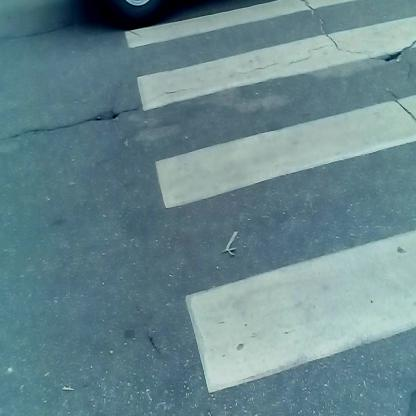crosswalk: (119, 23, 416, 394)
